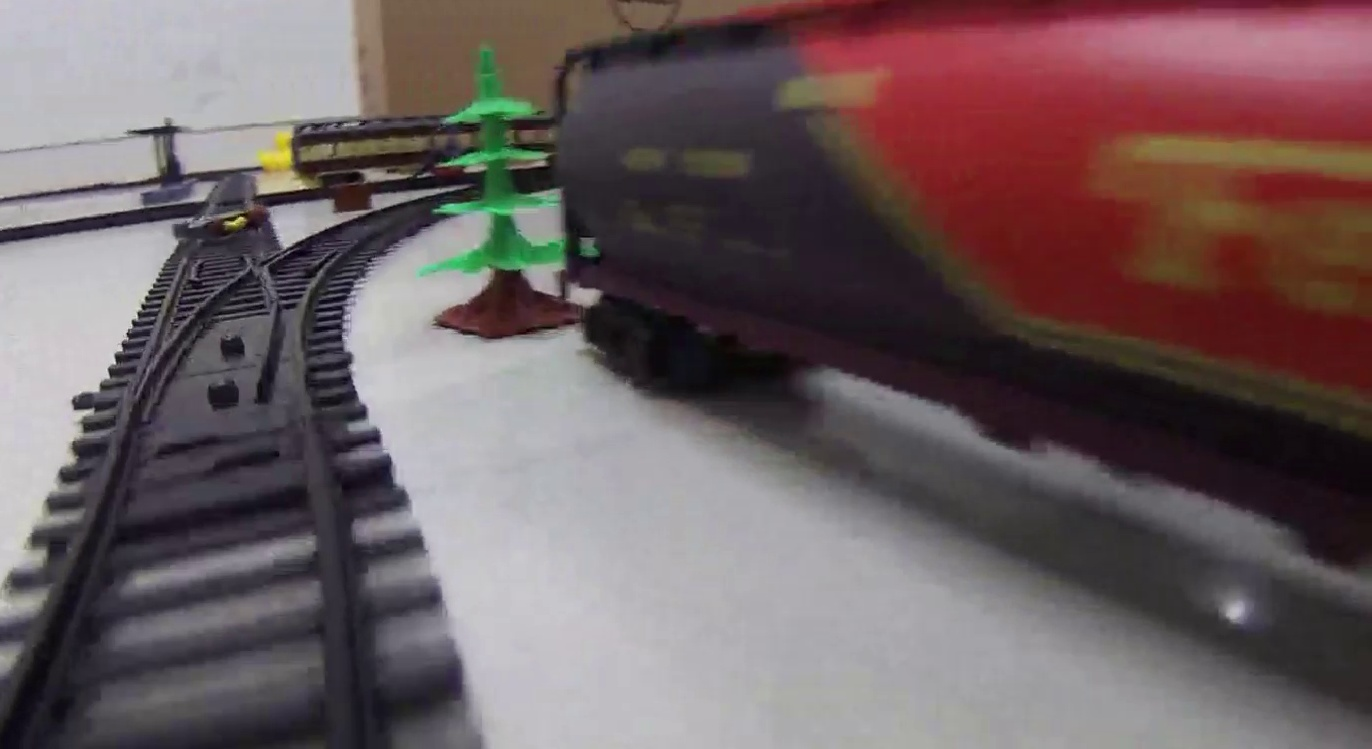tree: (419, 45, 557, 334)
